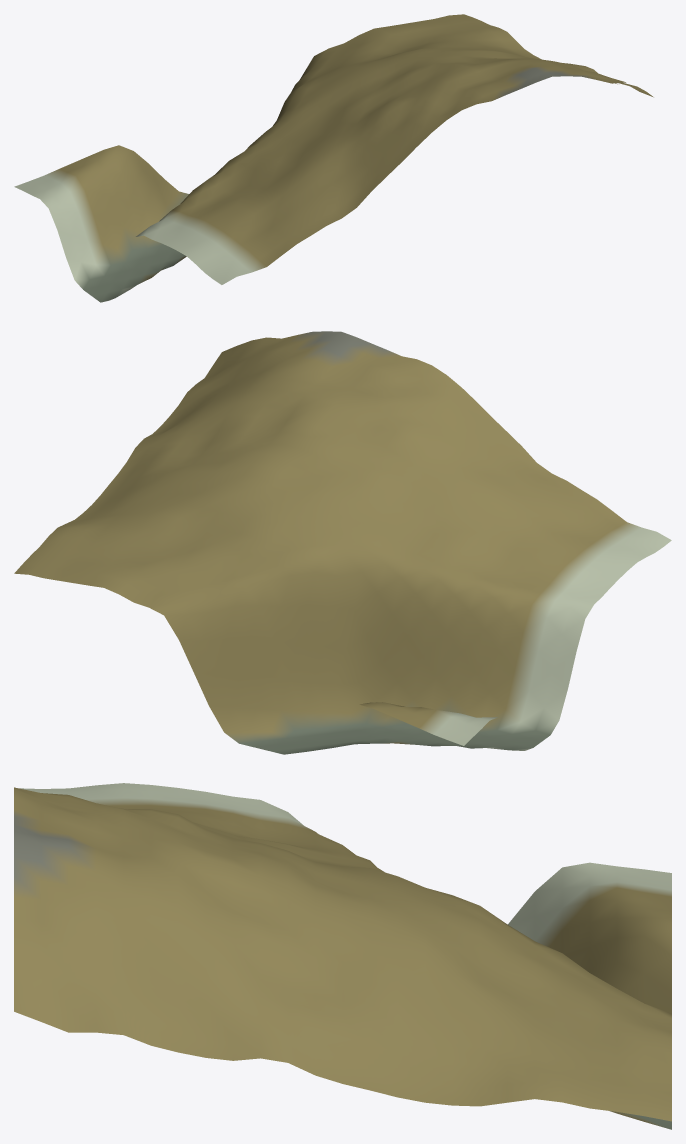
3 renders of one model, top to bottom at view 1: azimuth 30°, elevation 25°; view 2: azimuth 150°, elevation 25°; view 3: azimuth 270°, elevation 25°, orthographic. The views are drawn at different scales.
Visible parts, largest first — view 1: world-ground/180-72; view 2: world-ground/180-72; view 3: world-ground/180-72.
Part boxes in pixels (left/top/right/bottom): world-ground/180-72: left=14, top=14, right=653, bottom=302; world-ground/180-72: left=14, top=331, right=671, bottom=754; world-ground/180-72: left=14, top=783, right=671, bottom=1129.
Bounding box in the file's own units: 37.5 × 18.64 × 30.
